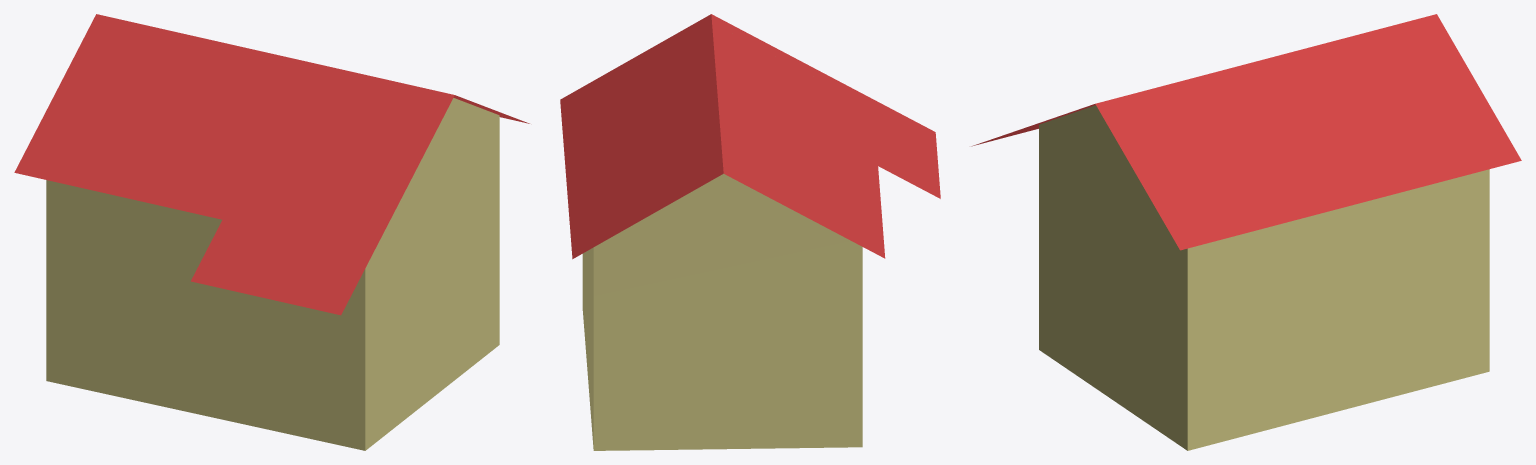
3 views of the same model, side by side, from view 1: azimuth 30°, elevation 25°; view 2: azimuth 150°, elevation 25°; view 3: azimuth 270°, elevation 25° (orthographic). The views are drawn at different scales.
Bounding box in the file's own units: 15.94 × 17.79 × 10.76.
